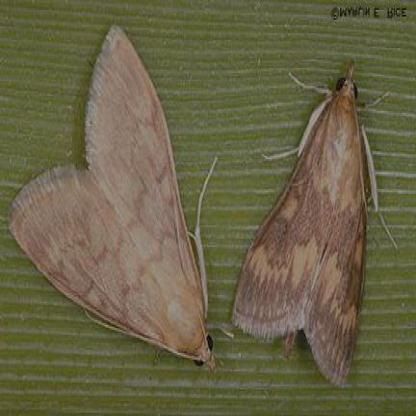stem-borer: (5, 21, 230, 377), (236, 57, 397, 392)
